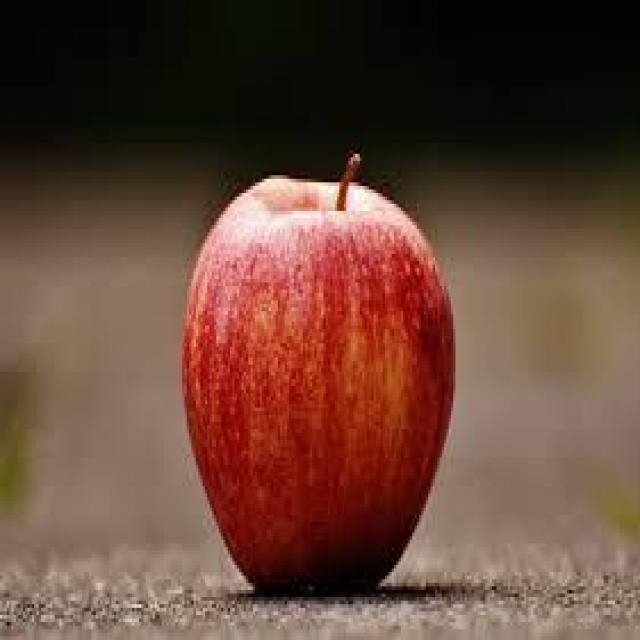apple: (180, 152, 454, 594)
